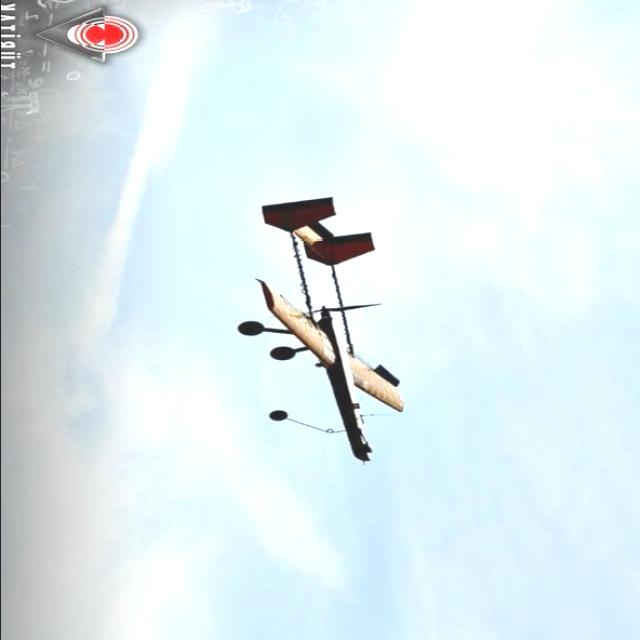plane: (236, 194, 407, 463)
